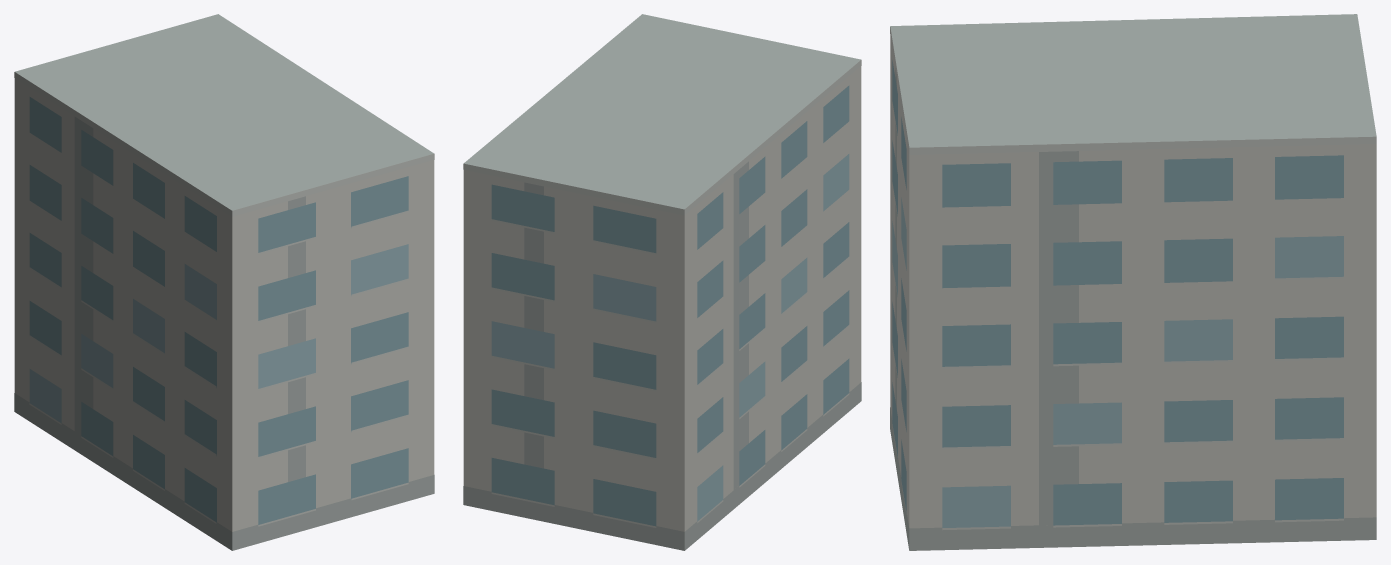
File: survey-upis-32883380.glb
3 renders of one model, left to right at view 1: azimuth 30°, elevation 25°; view 2: azimuth 150°, elevation 25°; view 3: azimuth 270°, elevation 25°, orthographic. The views are drawn at different scales.
Parts seen in each view (by area): view 1: survey-upis-32883380.tmp; view 2: survey-upis-32883380.tmp; view 3: survey-upis-32883380.tmp.
Boxes of the visible parts, bbox=[...] form: survey-upis-32883380.tmp: bbox=[14, 14, 434, 550]; survey-upis-32883380.tmp: bbox=[463, 14, 861, 550]; survey-upis-32883380.tmp: bbox=[890, 14, 1376, 550].
Bounding box in the file's own units: 9.47 × 13.3 × 14.55.
